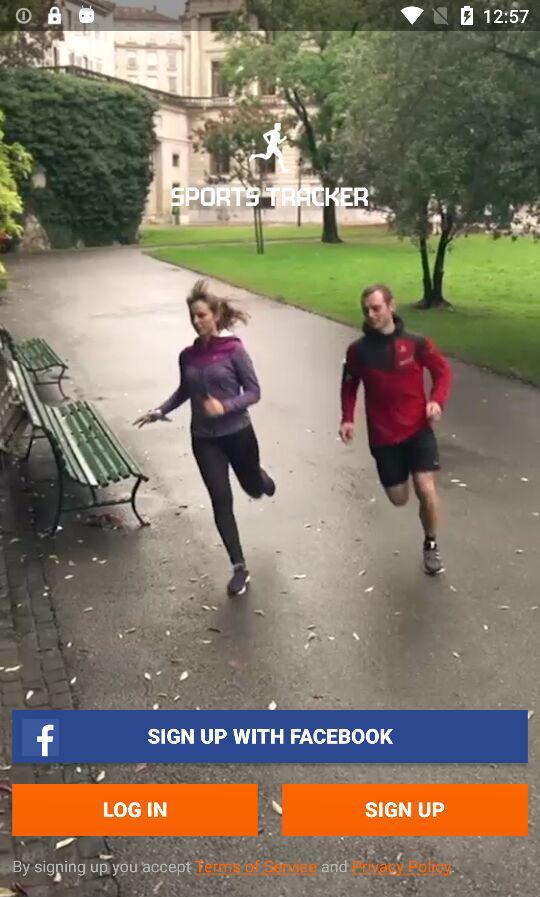BackgroundImage: (1, 32, 540, 897)
Image: (248, 123, 294, 174)
Text: (14, 860, 452, 878), (170, 186, 370, 208)
TextButton: (12, 710, 528, 764), (12, 784, 259, 837), (282, 784, 528, 837)
UpperTaskBar: (1, 1, 540, 32)
